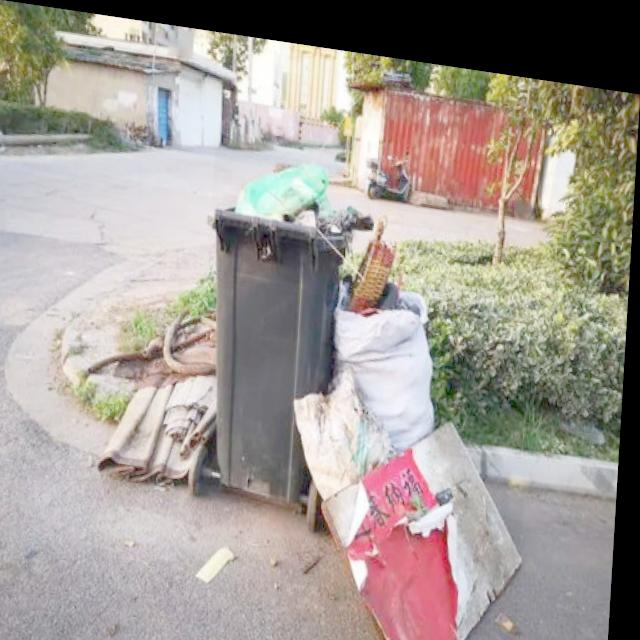garbage: (282, 198, 541, 640)
overflow: (201, 140, 349, 492)
